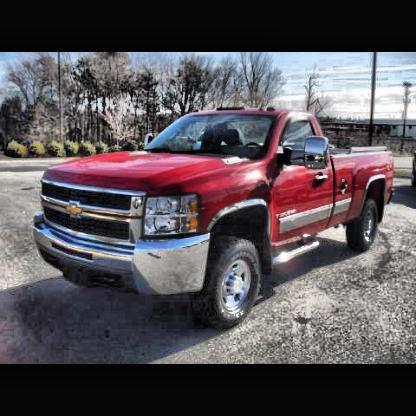Chevrolet Silverado 2500HD Regular Cab 2012: (33, 110, 397, 331)
